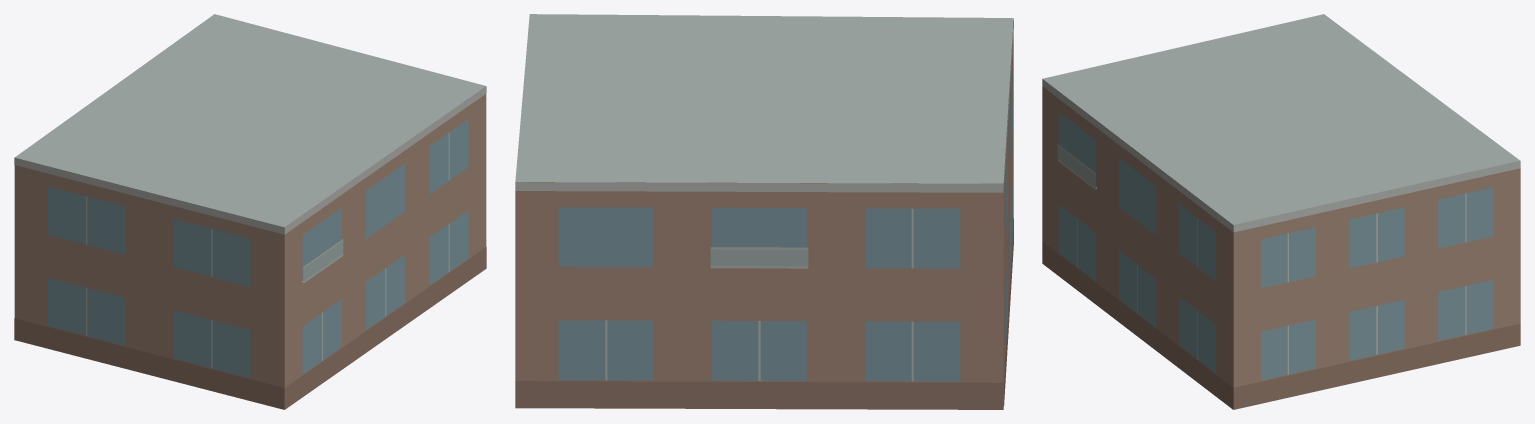
Rendered from survey-upis-32711875.glb.
3 views of the same model, side by side, from view 1: azimuth 30°, elevation 25°; view 2: azimuth 150°, elevation 25°; view 3: azimuth 270°, elevation 25° (orthographic). The views are drawn at different scales.
Visible parts, largest first — view 1: survey-upis-32711875.tmp; view 2: survey-upis-32711875.tmp; view 3: survey-upis-32711875.tmp.
Part boxes in pixels (left/top/right/bottom): survey-upis-32711875.tmp: left=14, top=14, right=486, bottom=409; survey-upis-32711875.tmp: left=515, top=14, right=1013, bottom=409; survey-upis-32711875.tmp: left=1042, top=14, right=1520, bottom=409.
Bounding box in the file's own units: 14.96 × 6.1 × 14.32.
